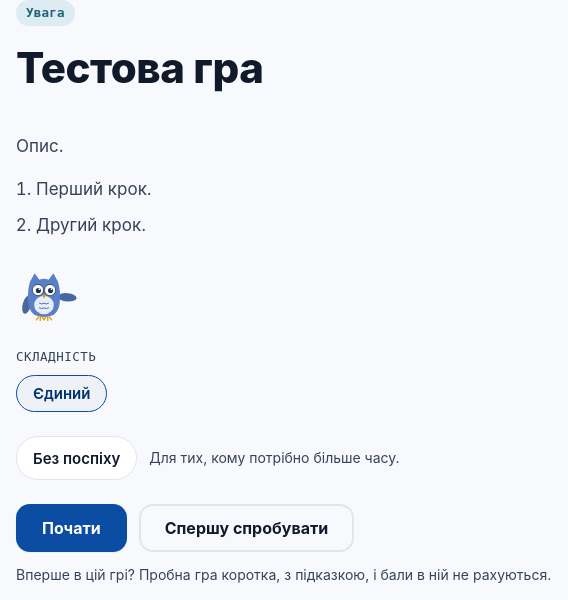
Scenario: без поспіху › перемикач перед грою запам’ятовується в налаштуваннях
Click the button "Без поспіху": click(77, 458) 16,436 -> 137,480
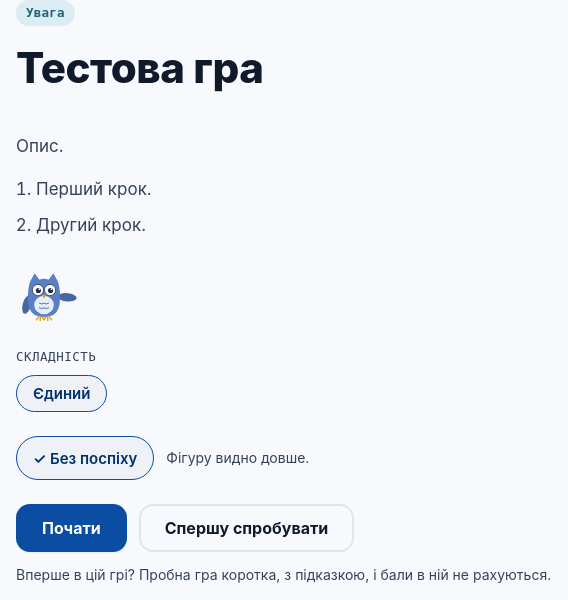
Check: the text "Фігуру видно довше." is shown, box 166,447 -> 309,470
